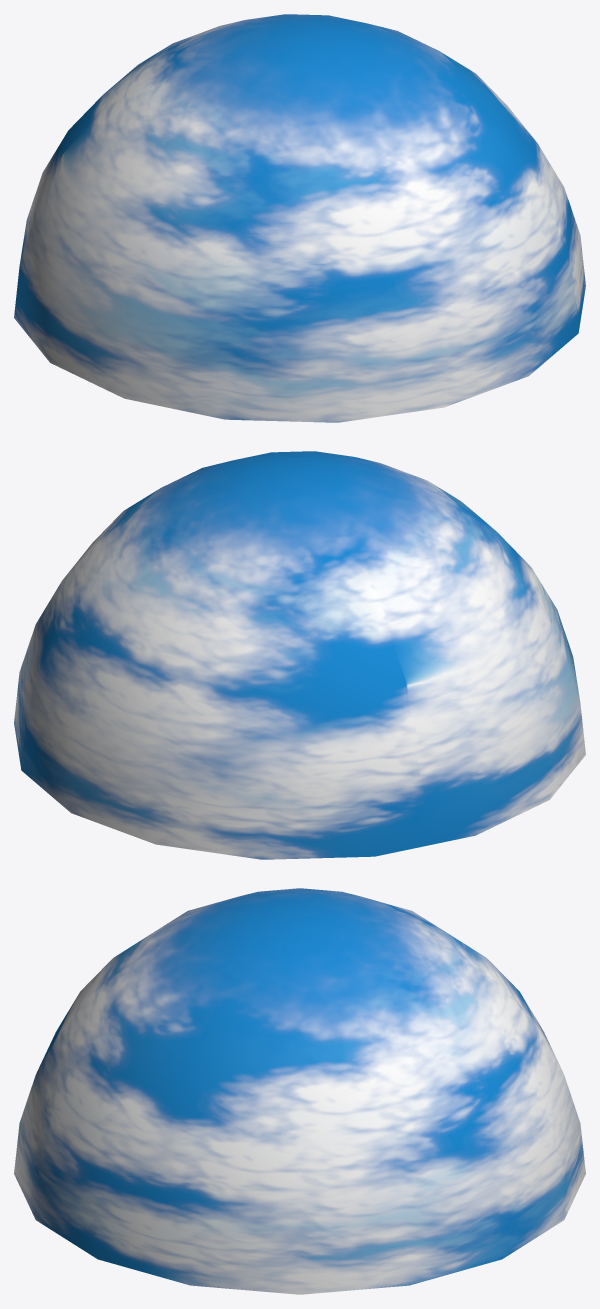
File: skybox.fbx
3 views of the same model, one above another, from view 1: azimuth 30°, elevation 25°; view 2: azimuth 150°, elevation 25°; view 3: azimuth 270°, elevation 25° (orthographic).
Parts seen in each view (by area): view 1: Sphere; view 2: Sphere; view 3: Sphere.
Boxes of the visible parts, left/top/right/bottom form: Sphere: left=14, top=14, right=585, bottom=422; Sphere: left=14, top=451, right=585, bottom=859; Sphere: left=14, top=888, right=585, bottom=1294.
Size of the model in its own units: 200 by 100 by 200.
